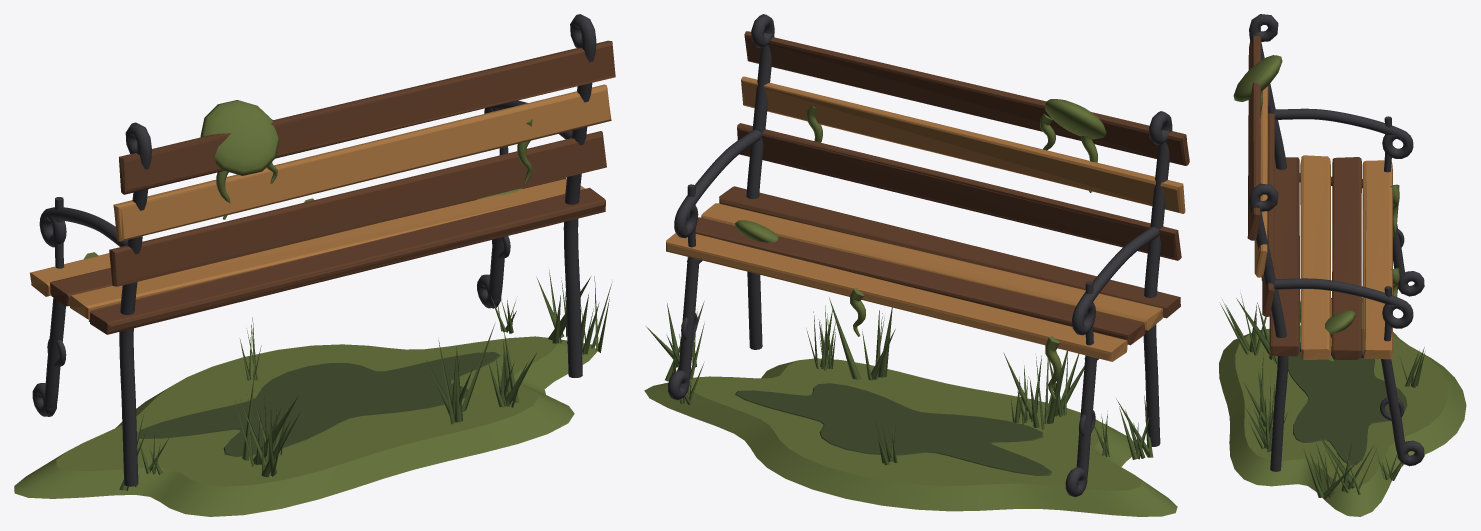
Rendered from BAYOU_BENCH.glb.
The picture shows the model from 3 angles, left to right: view 1: azimuth 30°, elevation 25°; view 2: azimuth 150°, elevation 25°; view 3: azimuth 270°, elevation 25°; orthographic projection. The views are drawn at different scales.
Visible parts, largest first — view 1: Back_Slat (×3), Ground, Seat_Slat (×4), Frame_Iron, Ground_Mud, Grass, Moss, Moss_Drape; view 2: Back_Slat (×3), Seat_Slat (×4), Ground, Frame_Iron, Ground_Mud, Grass, Moss, Moss_Drape; view 3: Seat_Slat (×4), Ground, Frame_Iron, Ground_Mud, Back_Slat (×3), Grass, Moss, Moss_Drape.
Boxes of the visible parts, left/top/right/bottom form: Back_Slat (×3): left=109, top=40, right=615, bottom=286; Ground: left=14, top=336, right=597, bottom=516; Seat_Slat (×4): left=30, top=177, right=605, bottom=334; Frame_Iron: left=32, top=14, right=596, bottom=486; Ground_Mud: left=137, top=352, right=500, bottom=456; Grass: left=119, top=269, right=612, bottom=490; Moss: left=200, top=100, right=522, bottom=199; Moss_Drape: left=84, top=119, right=532, bottom=321; Back_Slat (×3): left=737, top=31, right=1189, bottom=260; Seat_Slat (×4): left=666, top=186, right=1180, bottom=361; Ground: left=644, top=358, right=1177, bottom=516; Frame_Iron: left=668, top=14, right=1172, bottom=497; Ground_Mud: left=735, top=383, right=1051, bottom=475; Grass: left=646, top=297, right=1153, bottom=464; Moss: left=735, top=99, right=1106, bottom=242; Moss_Drape: left=806, top=106, right=1097, bottom=398; Seat_Slat (×4): left=1269, top=155, right=1392, bottom=360; Ground: left=1219, top=297, right=1466, bottom=516; Frame_Iron: left=1249, top=14, right=1424, bottom=471; Ground_Mud: left=1288, top=329, right=1407, bottom=465; Back_Slat (×3): left=1247, top=27, right=1274, bottom=316; Grass: left=1219, top=293, right=1424, bottom=499; Moss: left=1233, top=55, right=1355, bottom=337; Moss_Drape: left=1260, top=91, right=1399, bottom=296.
Bounding box in the file's own units: 7.53 × 4.79 × 3.52.
